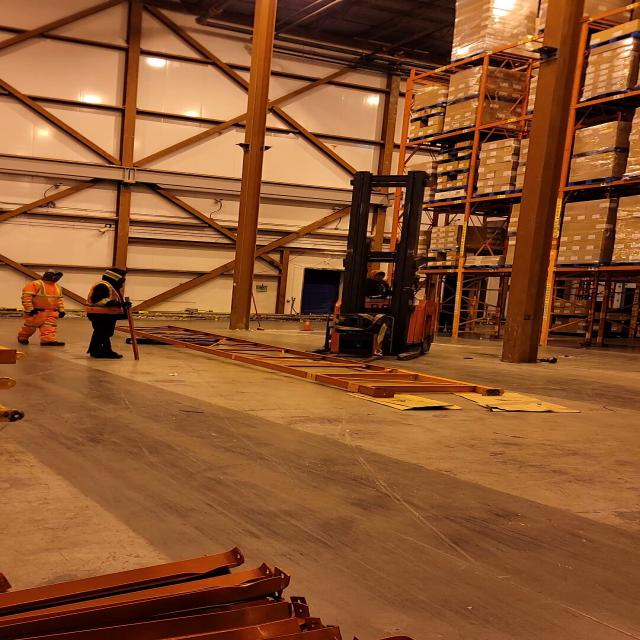forklift: (302, 175, 440, 363)
human: (79, 267, 139, 363), (14, 267, 71, 348), (349, 268, 422, 310)
objectofinterest: (107, 320, 506, 398), (445, 383, 584, 416), (341, 383, 467, 413), (121, 335, 162, 349)
